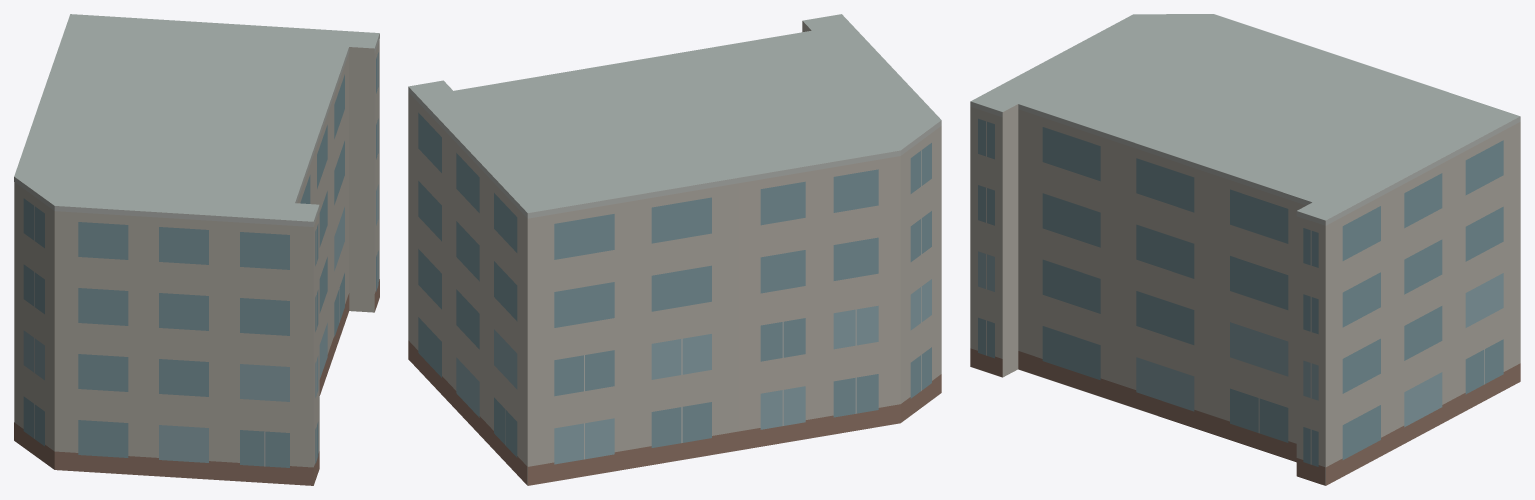
File: residential-2065e617-e856-45b8-a891-d8e9dc2a87ff.glb
The picture shows the model from 3 angles, left to right: view 1: azimuth 30°, elevation 25°; view 2: azimuth 150°, elevation 25°; view 3: azimuth 270°, elevation 25°; orthographic projection. The views are drawn at different scales.
Parts seen in each view (by area): view 1: residential-2065e617-e856-45b8-a891-d8e9dc2a87ff.tmp; view 2: residential-2065e617-e856-45b8-a891-d8e9dc2a87ff.tmp; view 3: residential-2065e617-e856-45b8-a891-d8e9dc2a87ff.tmp.
Boxes of the visible parts, x1=… form: residential-2065e617-e856-45b8-a891-d8e9dc2a87ff.tmp: x1=14, y1=14, x2=379, y2=485; residential-2065e617-e856-45b8-a891-d8e9dc2a87ff.tmp: x1=408, y1=14, x2=941, y2=485; residential-2065e617-e856-45b8-a891-d8e9dc2a87ff.tmp: x1=970, y1=14, x2=1520, y2=485.
Size of the model in its own units: 20.38 by 12.2 by 22.93.
